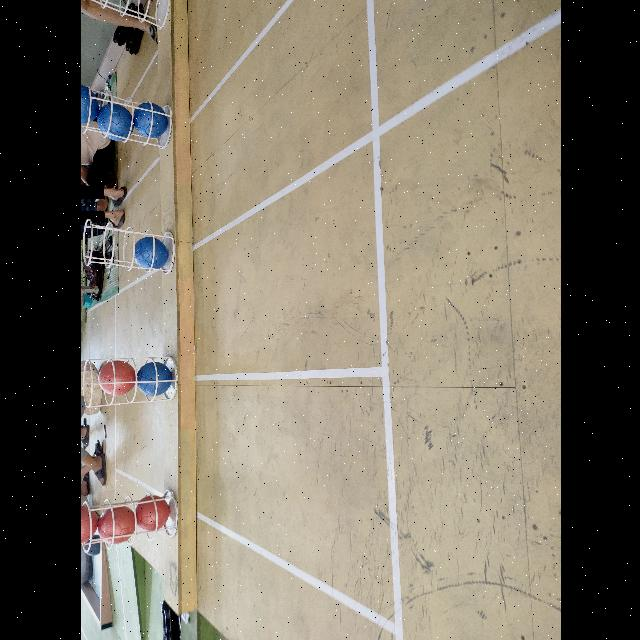B: (95, 105, 132, 142), (134, 362, 172, 396), (132, 236, 166, 270), (134, 104, 166, 138)
R: (95, 506, 135, 544), (134, 494, 170, 532), (97, 360, 135, 394), (80, 504, 100, 548)
